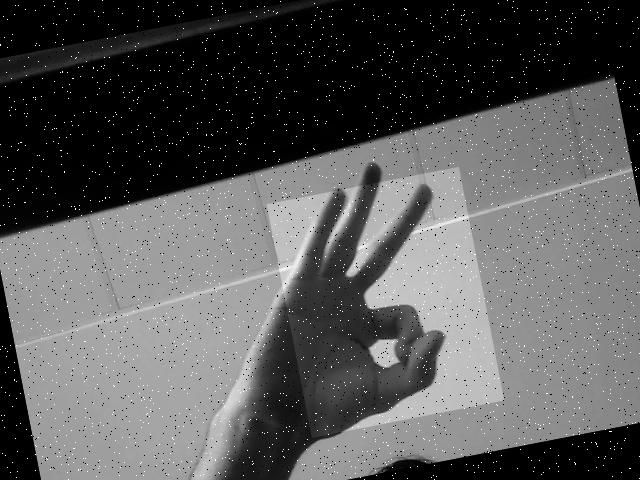OK: (266, 167, 504, 436)
